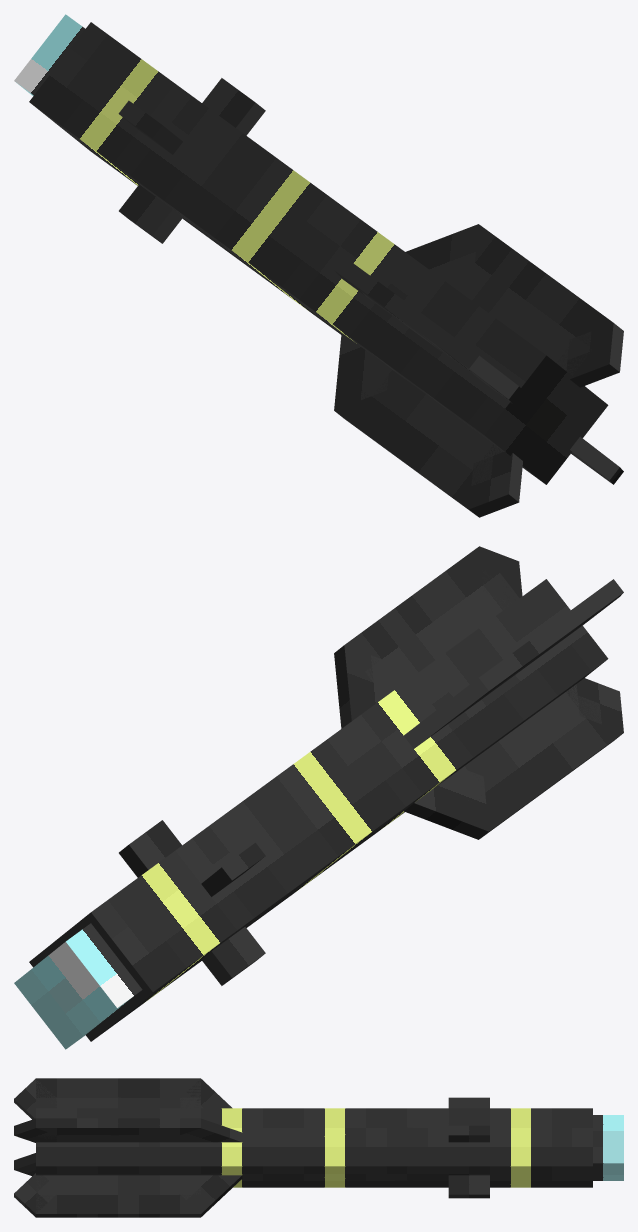
The model's file is agm114.gltf.
3 renders of one model, top to bottom at view 1: azimuth 30°, elevation 25°; view 2: azimuth 150°, elevation 25°; view 3: azimuth 270°, elevation 25°, orthographic. The views are drawn at different scales.
Parts seen in each view (by area): view 1: root (×14); view 2: root (×13); view 3: root (×15).
Part boxes in pixels (box(x1,y1,x2,y2)): root (×14): box(14, 14, 623, 517); root (×13): box(14, 546, 623, 1049); root (×15): box(14, 1078, 623, 1217).
Bounding box in the file's own units: 0.3315 × 0.3315 × 1.85.
Materials: 1 (1 with a texture image).
